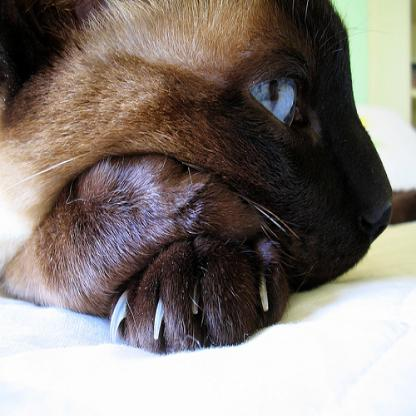cat: (0, 0, 395, 355)
